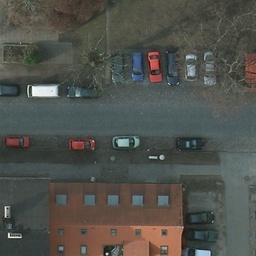car: (166, 49, 182, 87), (147, 50, 164, 84), (203, 53, 219, 88), (130, 50, 144, 84), (176, 136, 205, 152), (185, 53, 200, 82), (66, 85, 99, 98), (69, 137, 95, 153), (184, 227, 218, 239), (112, 135, 140, 149), (112, 55, 125, 85), (182, 212, 215, 223), (3, 135, 30, 148), (0, 83, 19, 97)
van: (26, 82, 60, 99)
